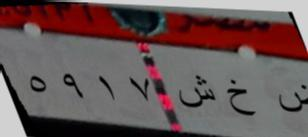1: (93, 67, 120, 108)
5: (27, 70, 51, 102)
7: (125, 73, 154, 107)
9: (61, 68, 86, 108)
khaa: (224, 77, 258, 121)
sheen: (174, 70, 218, 113)
